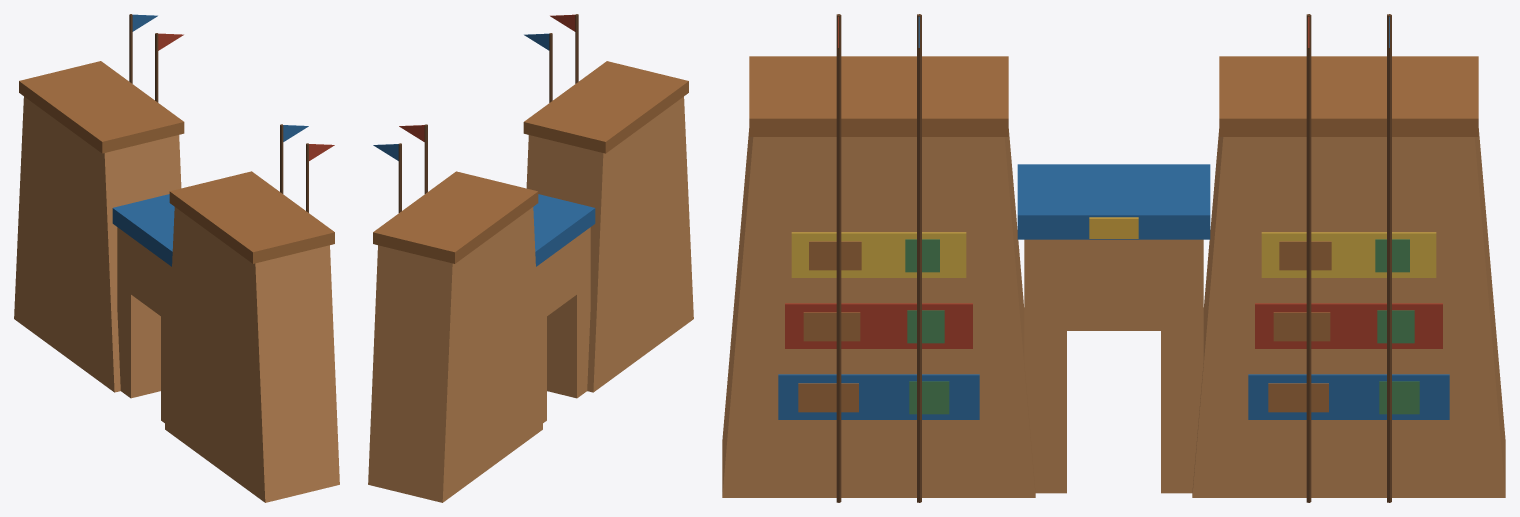
File: pylon.glb
The picture shows the model from 3 angles, left to right: view 1: azimuth 30°, elevation 25°; view 2: azimuth 150°, elevation 25°; view 3: azimuth 270°, elevation 25°; orthographic projection. The views are drawn at different scales.
Visible parts, largest first — view 1: pylon; view 2: pylon; view 3: pylon.
Part boxes in pixels (x1,y1,x2,y2): pylon: [14, 14, 339, 502]; pylon: [368, 14, 693, 502]; pylon: [722, 14, 1505, 502].
Size of the model in its own units: 8.9 by 24 by 35.
